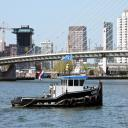tugboat: (12, 73, 105, 110)
